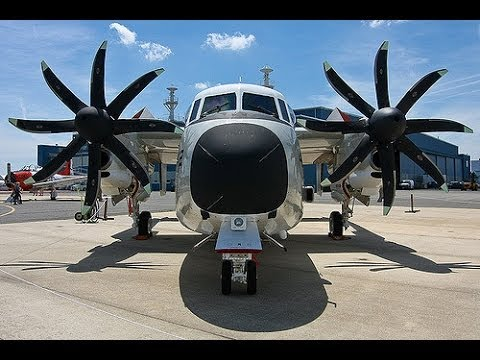Propeller: (35, 49, 175, 211), (325, 57, 464, 208)
